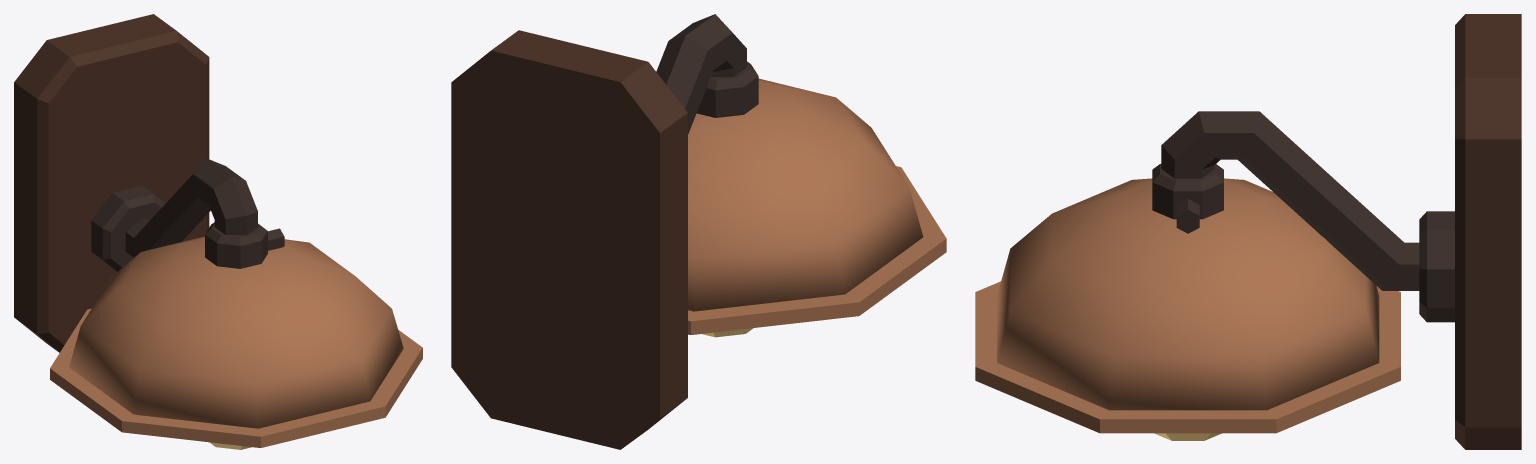
The model's file is DomeSconce.fbx.
3 views of the same model, side by side, from view 1: azimuth 30°, elevation 25°; view 2: azimuth 150°, elevation 25°; view 3: azimuth 270°, elevation 25° (orthographic). The views are drawn at different scales.
Parts seen in each view (by area): view 1: DomeSconce_Shade, DomeSconce_Wood, DomeSconce_Iron, DomeSconce_Brim; view 2: DomeSconce_Wood, DomeSconce_Shade, DomeSconce_Brim, DomeSconce_Iron; view 3: DomeSconce_Shade, DomeSconce_Wood, DomeSconce_Iron, DomeSconce_Brim.
Part boxes in pixels (x1=…): DomeSconce_Shade: x1=69, y1=236, x2=403, y2=428; DomeSconce_Wood: x1=14, y1=14, x2=209, y2=352; DomeSconce_Iron: x1=91, y1=158, x2=284, y2=271; DomeSconce_Brim: x1=50, y1=308, x2=422, y2=447; DomeSconce_Wood: x1=451, y1=30, x2=687, y2=449; DomeSconce_Shade: x1=688, y1=78, x2=923, y2=311; DomeSconce_Brim: x1=688, y1=166, x2=946, y2=334; DomeSconce_Iron: x1=656, y1=14, x2=758, y2=134; DomeSconce_Shade: x1=997, y1=178, x2=1379, y2=410; DomeSconce_Wood: x1=1455, y1=14, x2=1521, y2=449; DomeSconce_Iron: x1=1152, y1=111, x2=1454, y2=322; DomeSconce_Brim: x1=975, y1=281, x2=1400, y2=433.
Bounding box in the file's own units: 1.66 × 1.63 × 2.13.
